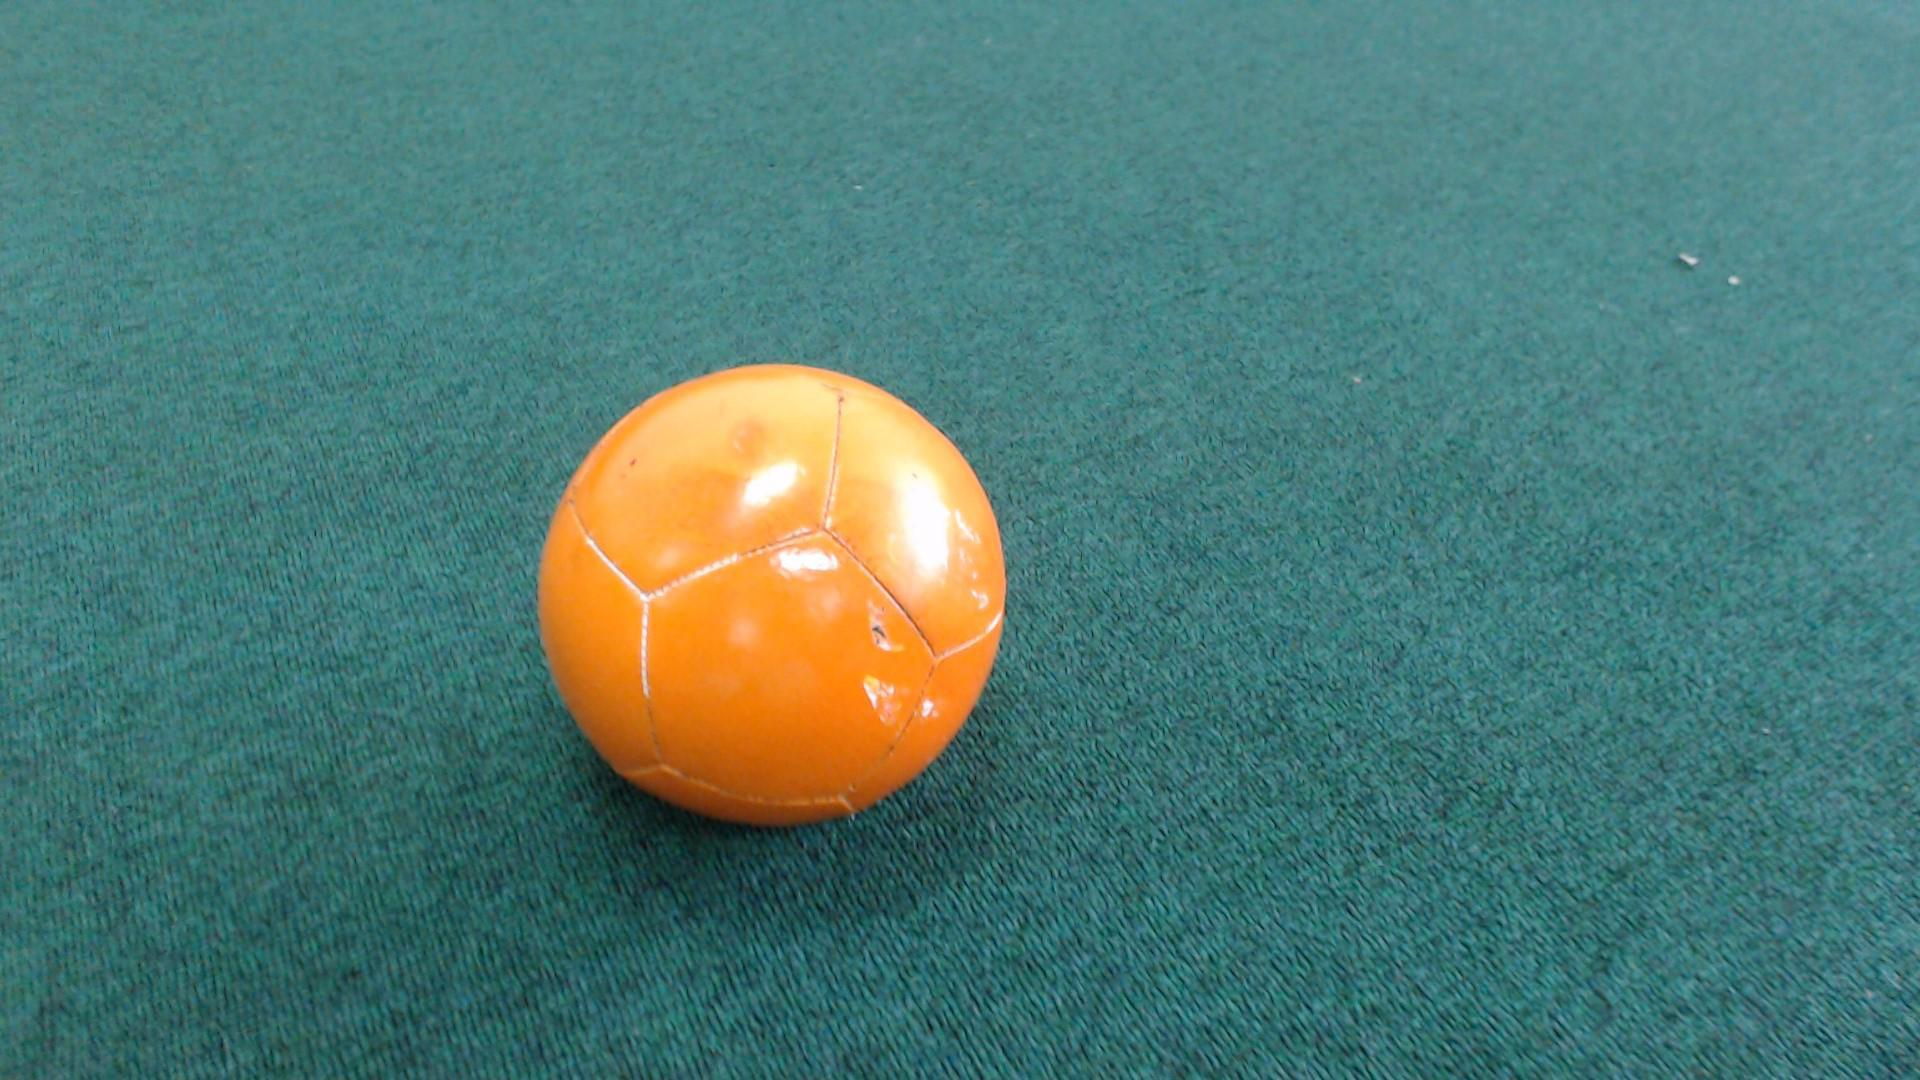bola: (514, 326, 1047, 845)
